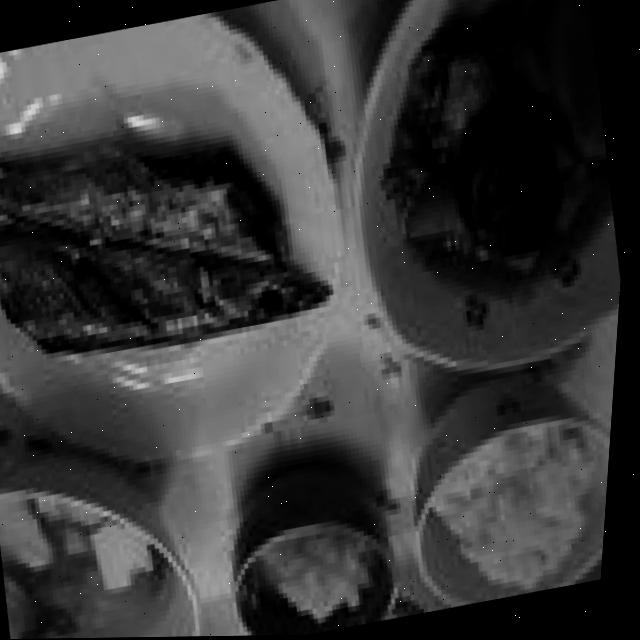熟制海鲜: (0, 55, 364, 422)
